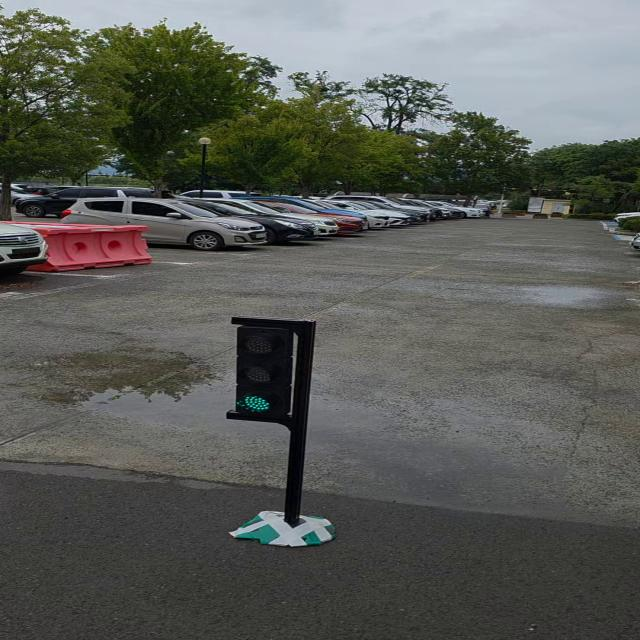green: (230, 319, 306, 423)
